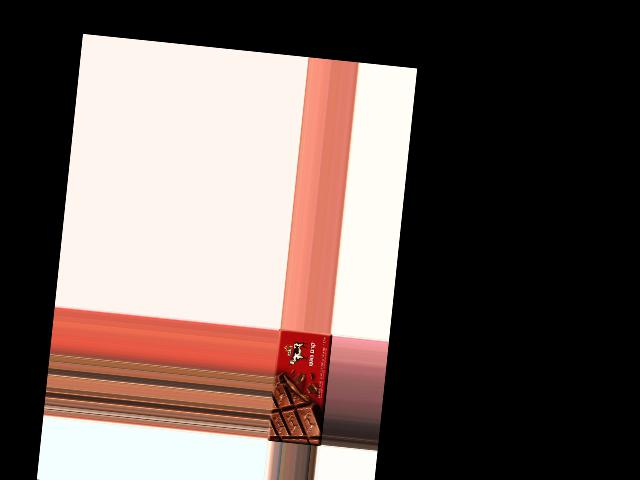chocolate: (267, 328, 331, 444)
